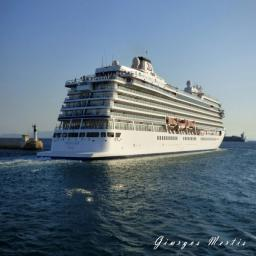cruises: (38, 50, 230, 156)
